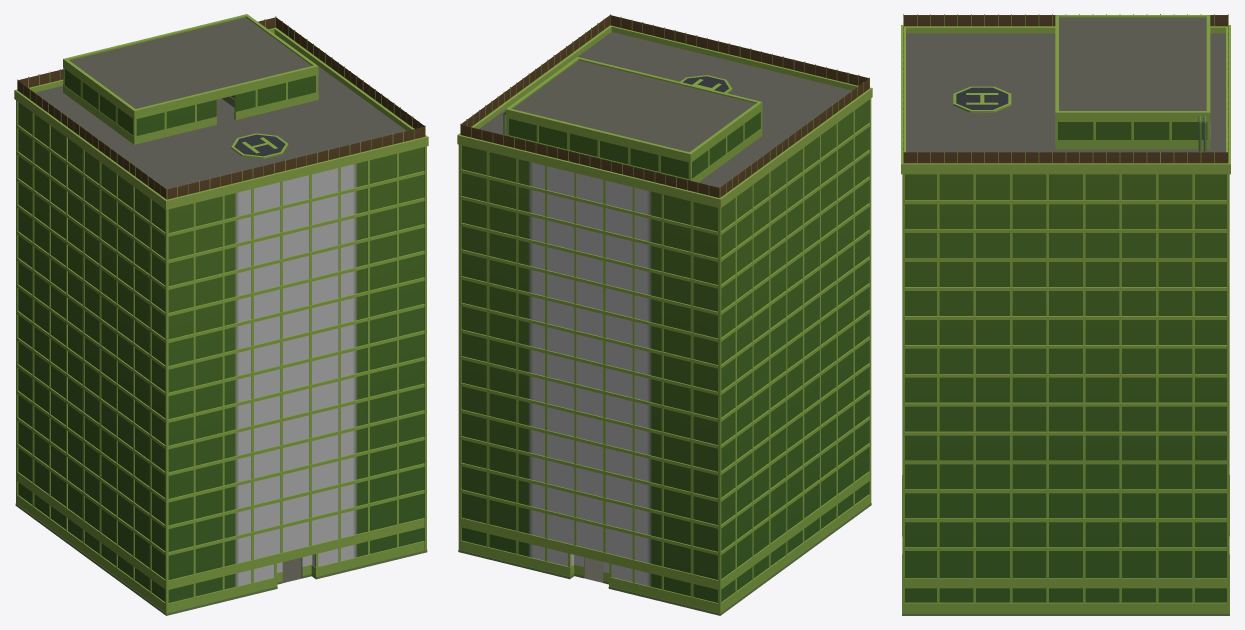
The model's file is House_52.fbx.
3 views of the same model, side by side, from view 1: azimuth 30°, elevation 25°; view 2: azimuth 150°, elevation 25°; view 3: azimuth 270°, elevation 25° (orthographic). The views are drawn at different scales.
Parts seen in each view (by area): view 1: House_52; view 2: House_52; view 3: House_52.
Part boxes in pixels (<box>): House_52: <box>14,14,428,615</box>; House_52: <box>457,14,872,615</box>; House_52: <box>901,14,1230,615</box>.
Bounding box in the file's own units: 24 × 38.78 × 24.
